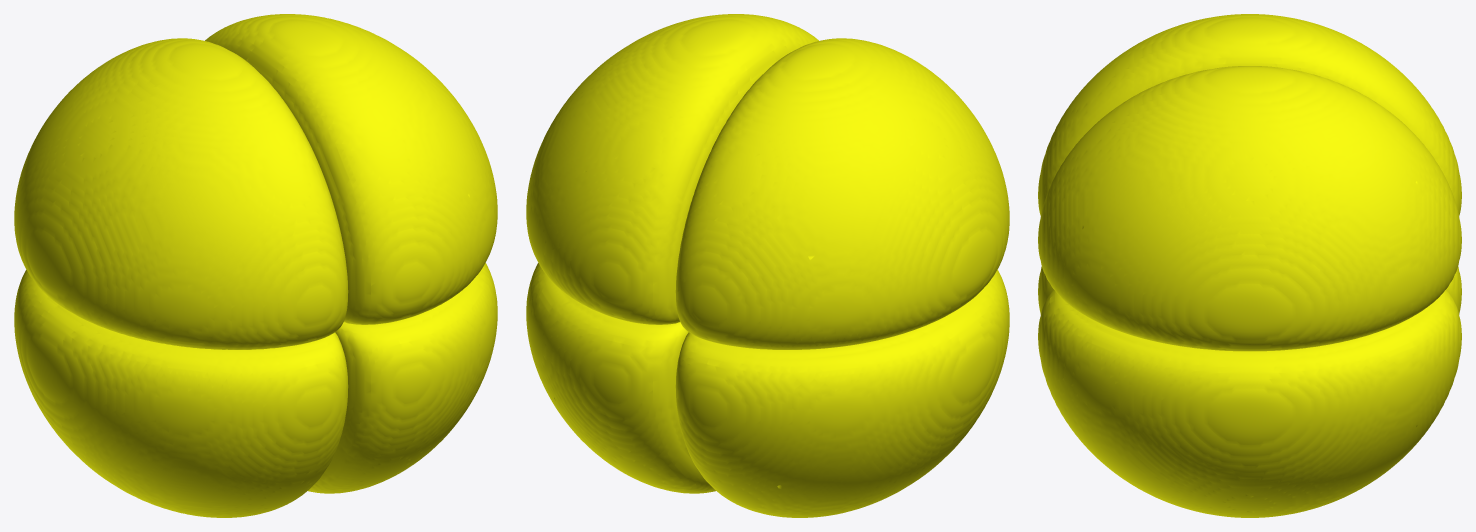
The model's file is orb_n=7_ l=2 _m=1.fbx.
The picture shows the model from 3 angles, left to right: view 1: azimuth 30°, elevation 25°; view 2: azimuth 150°, elevation 25°; view 3: azimuth 270°, elevation 25°; orthographic projection. The views are drawn at different scales.
Visible parts, largest first — view 1: orb_n=7_ l=2 _m=1; view 2: orb_n=7_ l=2 _m=1; view 3: orb_n=7_ l=2 _m=1.
Boxes of the visible parts, x1,y1,x2,y2 form: orb_n=7_ l=2 _m=1: (14,14,497,517); orb_n=7_ l=2 _m=1: (526,14,1009,517); orb_n=7_ l=2 _m=1: (1038,14,1461,517).
Size of the model in its own units: 33994 by 33994 by 30371.
